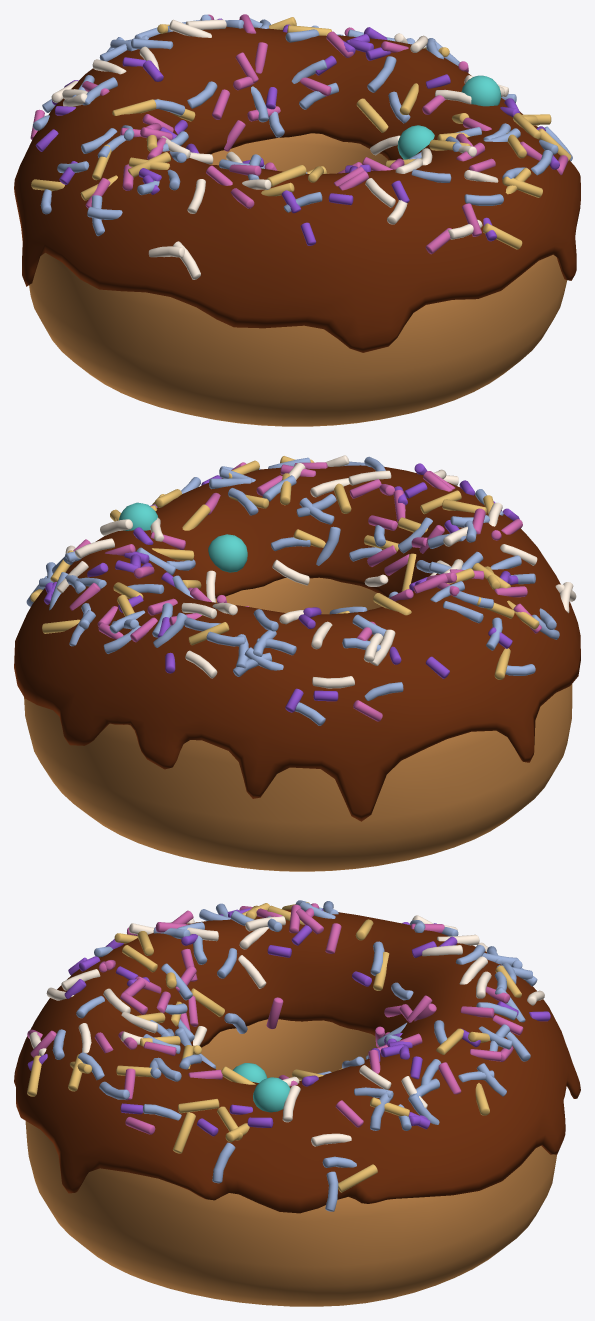
The model's file is SM_donut_chocolate.glb.
The picture shows the model from 3 angles, top to bottom: view 1: azimuth 30°, elevation 25°; view 2: azimuth 150°, elevation 25°; view 3: azimuth 270°, elevation 25°; orthographic projection. The views are drawn at different scales.
Visible parts, largest first — view 1: SM_donut_chocolate; view 2: SM_donut_chocolate; view 3: SM_donut_chocolate.
Part boxes in pixels (x1,y1,x2,y2): SM_donut_chocolate: [14, 14, 580, 426]; SM_donut_chocolate: [14, 455, 580, 871]; SM_donut_chocolate: [14, 900, 580, 1306].
Size of the model in its own units: 0.1732 by 0.084 by 0.172.
Materials: 1 (1 with a texture image).
